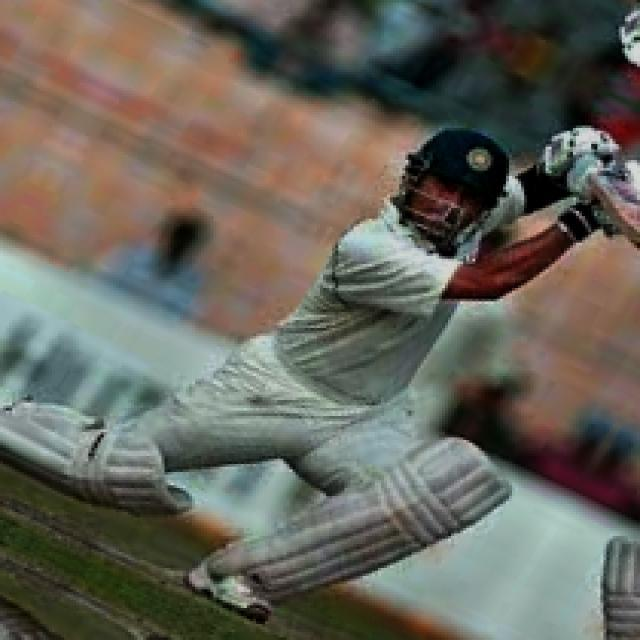bat: (588, 169, 640, 256)
